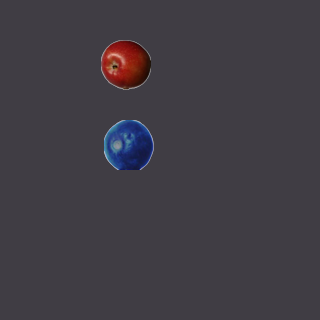Apple Braeburn: (100, 39, 150, 89)
Huckleberry: (103, 119, 153, 169)
